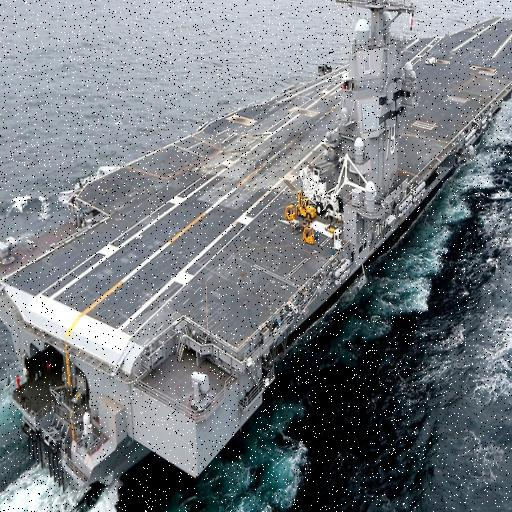Portanaves: (1, 1, 512, 505)
